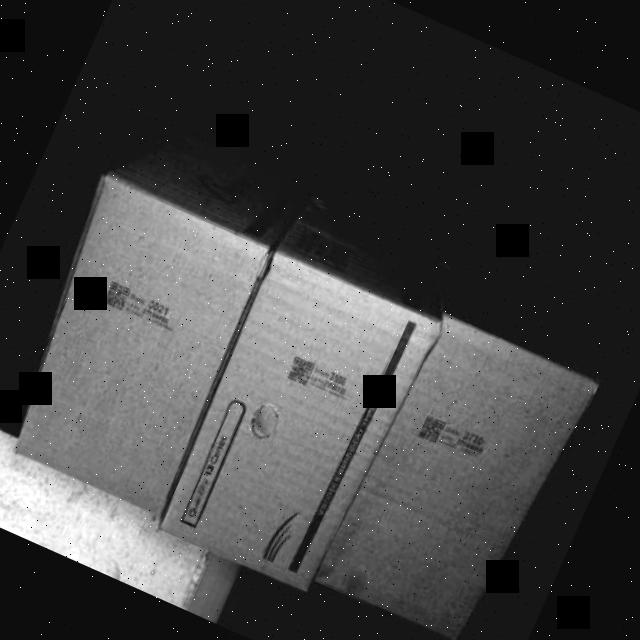box: (176, 187, 453, 548), (23, 124, 302, 480), (341, 262, 607, 610)
